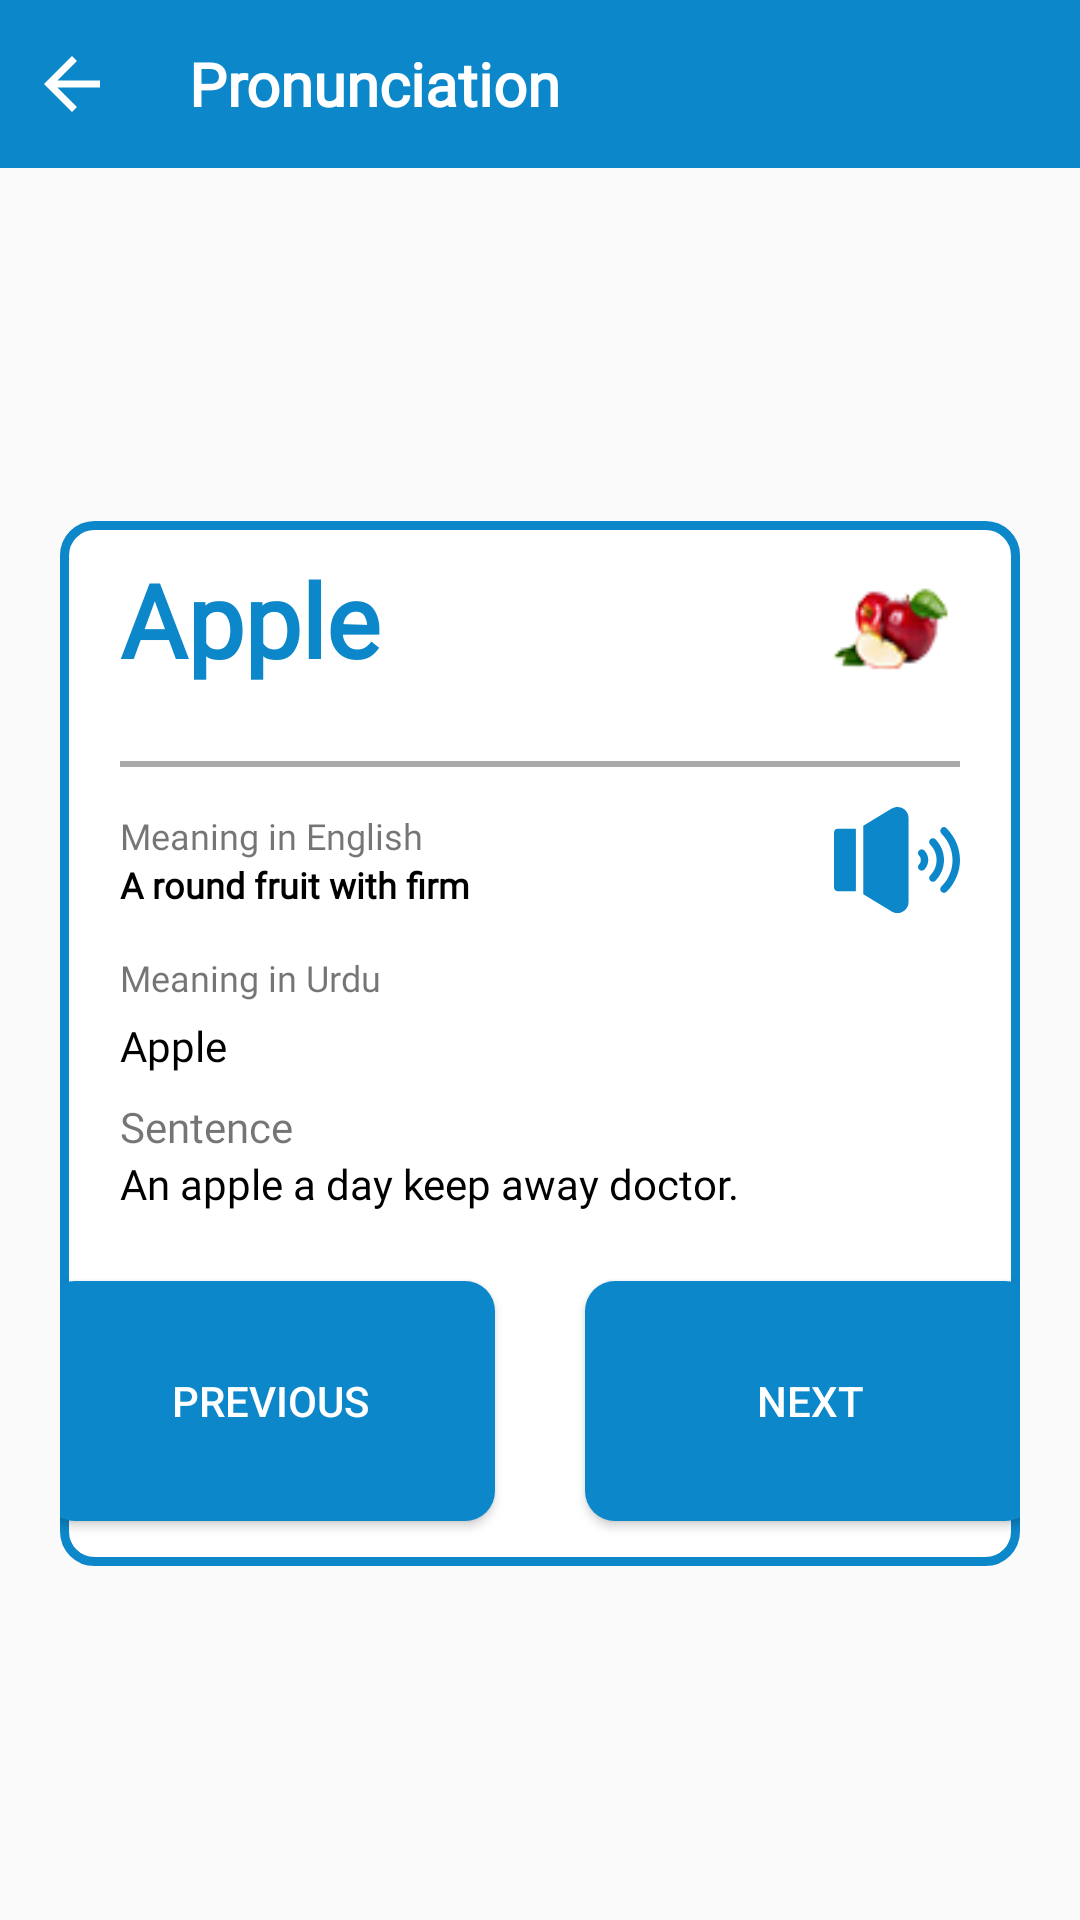

Icon click points for this 1080 × 1920 phone screenshot, format (x,y):
apple: (891,629)
arrow back: (72,84)
speaker: (897,860)
